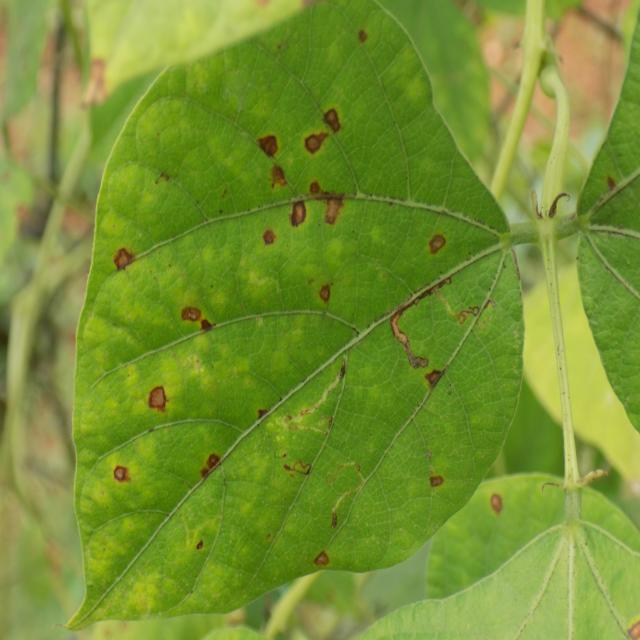Dolicos bean_cercospora leaf spot: (70, 0, 524, 640)
